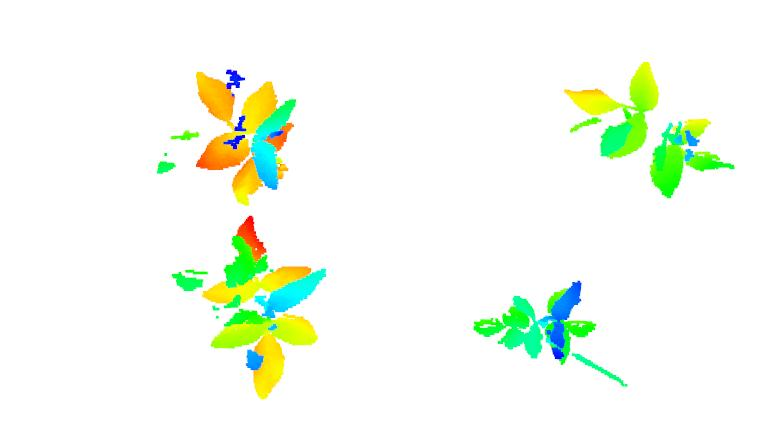mungbean: (552, 57, 736, 200), (201, 220, 327, 401), (197, 70, 295, 208), (468, 285, 595, 366)
